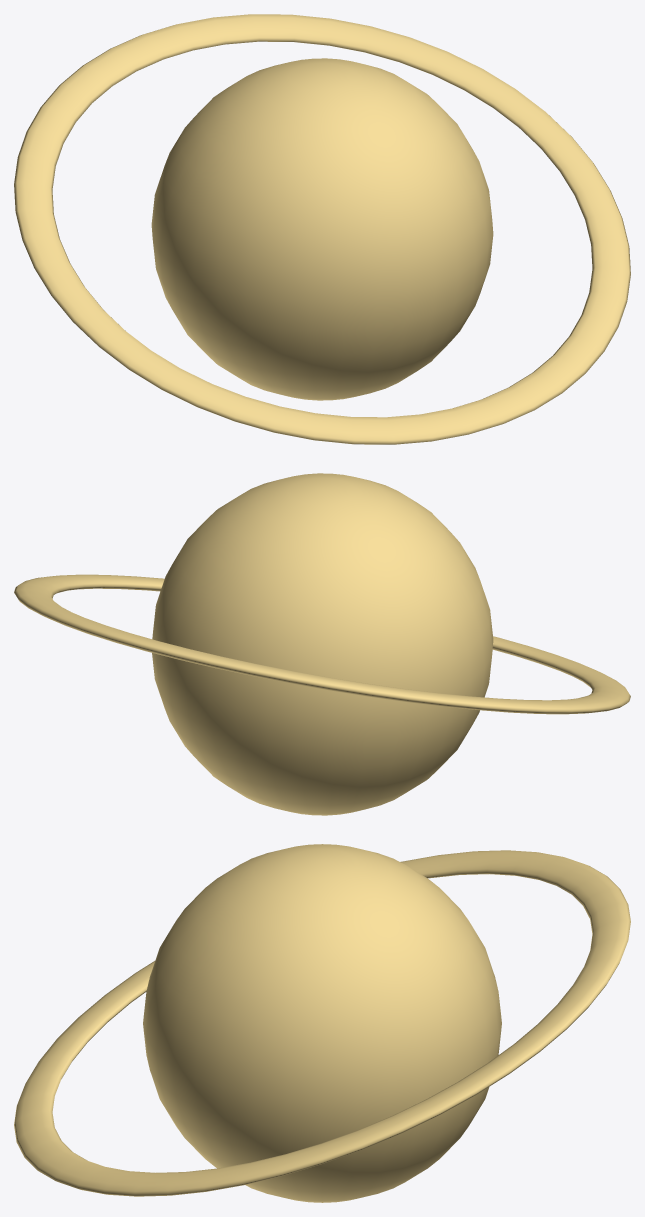
The model's file is saturn.glb.
3 renders of one model, top to bottom at view 1: azimuth 30°, elevation 25°; view 2: azimuth 150°, elevation 25°; view 3: azimuth 270°, elevation 25°, orthographic. The views are drawn at different scales.
Visible parts, largest first — view 1: saturn.001; view 2: saturn.001; view 3: saturn.001.
Boxes of the visible parts, box(x1,y1,x2,y2) form: saturn.001: box(14, 14, 630, 444); saturn.001: box(14, 473, 630, 815); saturn.001: box(14, 844, 630, 1202).
Size of the model in its own units: 0.7 by 0.3828 by 0.6578.
